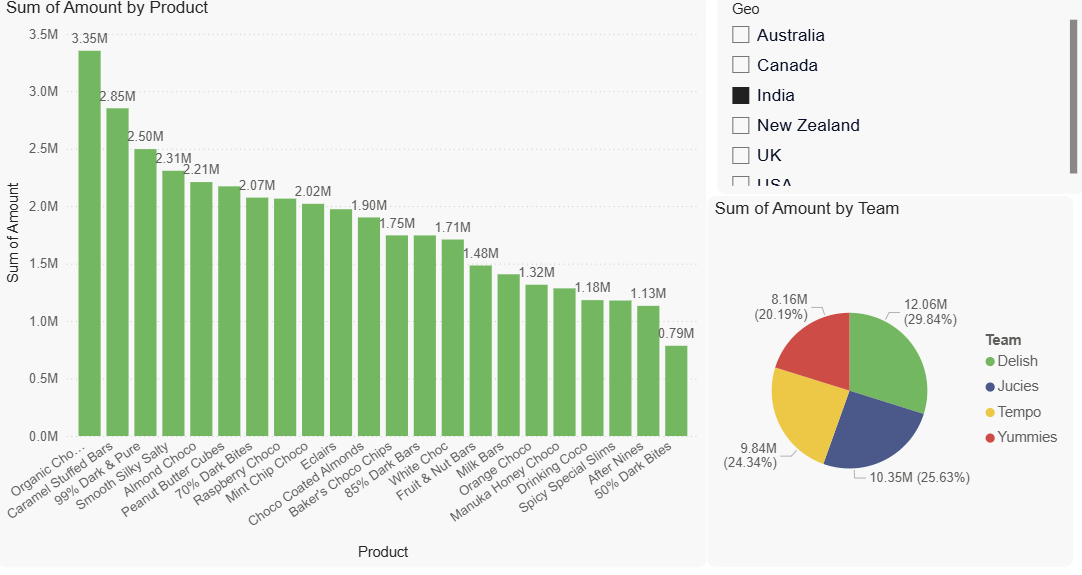

The page's visual inventory and layout, read from the dashboard file:
{"tool":"powerbi","page":{"name":"Page 1","canvas":[1280,720],"ordinal":0},"visuals":[{"type":"columnChart","fields":{"Category":["products.Product"],"Y":["Sum(shipments.Amount)"]},"box":[86.1,16.3,778.7,630],"z":0},{"type":"slicer","fields":{"Values":["locations.Geo"]},"box":[875.4,15.6,404.4,221.4],"z":1000},{"type":"pieChart","fields":{"Y":["Sum(shipments.Amount)"],"Category":["people.Team"]},"box":[865,238.1,403.4,408.6],"z":2000}]}

Visuals, with their boxes on the page's 1280x720 design canvas (x1, y1, x2, y2). These are canvas units, not pixel positions in the 1082x575 screenshot, which may show the page scaled, cropped or inside an application window:
columnChart - products.Product x Sum(shipments.Amount): <region>86, 16, 865, 646</region>
slicer - locations.Geo: <region>875, 16, 1280, 237</region>
pieChart - Sum(shipments.Amount) x people.Team: <region>865, 238, 1268, 647</region>
